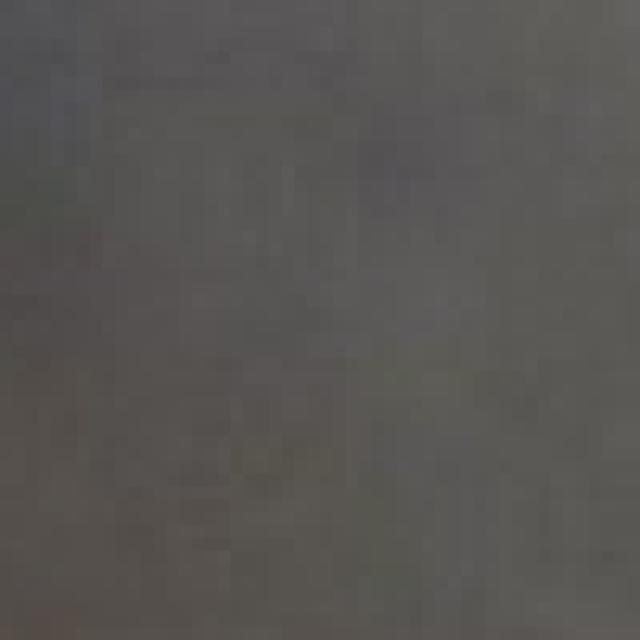no_fire: (6, 19, 640, 636)
